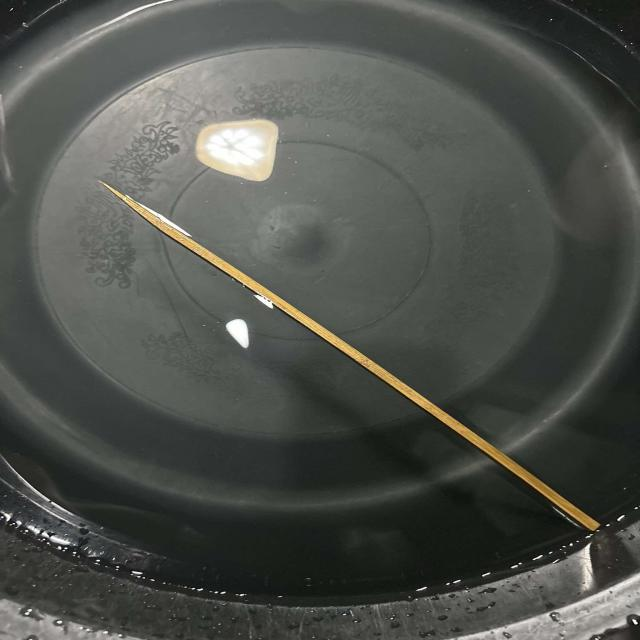Wood Stick: (67, 159, 592, 546)
